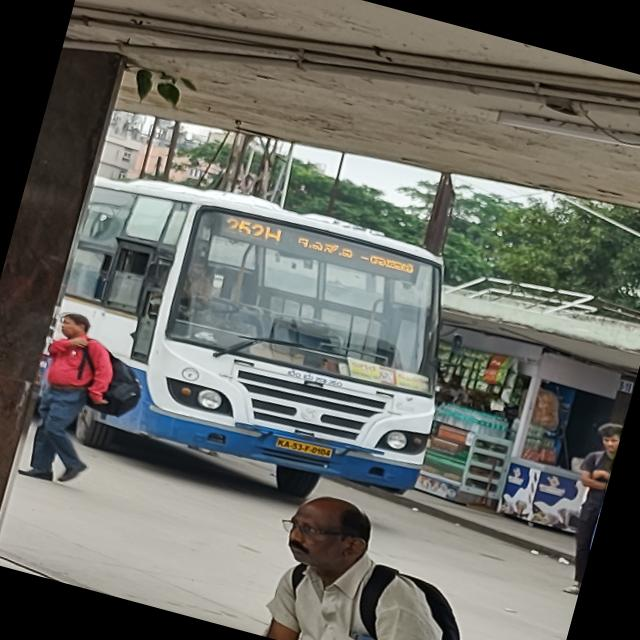bus: (21, 148, 484, 525)
display: (218, 211, 420, 286)
dnumber: (222, 215, 284, 248)
